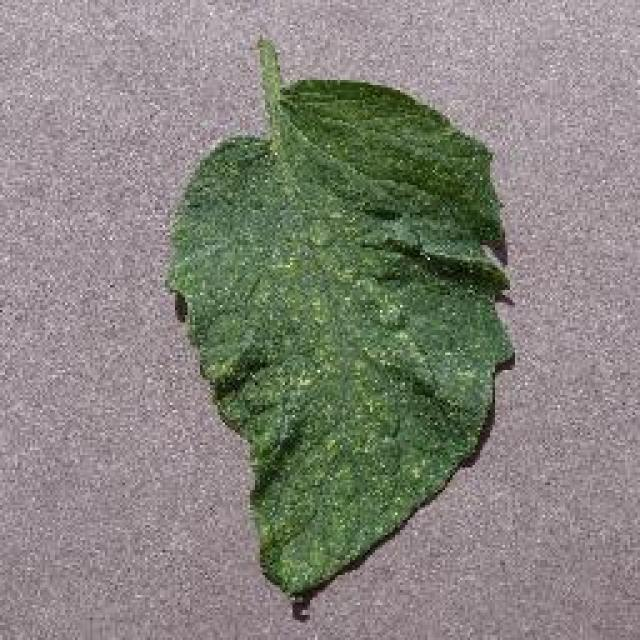Tomato___Spider_mites Two-spotted_spider_mite: (168, 40, 510, 595)
